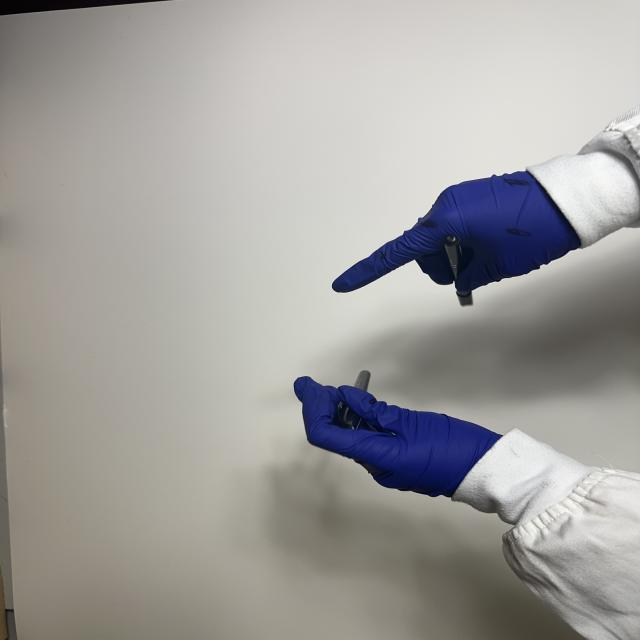gloves_contaminated: (332, 172, 580, 293), (294, 377, 501, 496)
